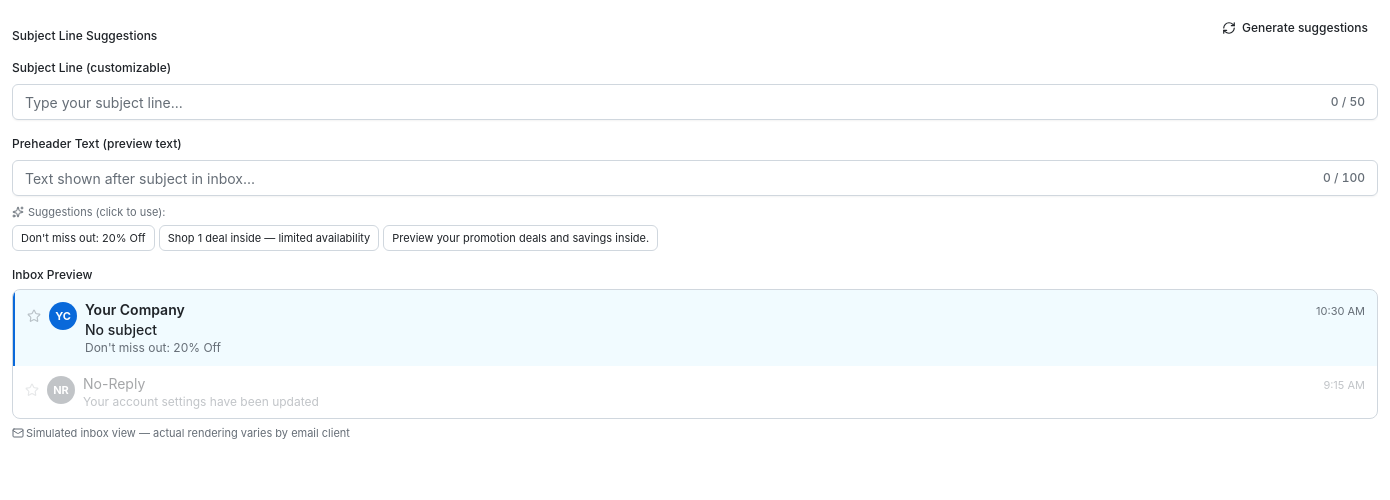
Test: SubjectLineGenerator › sets manually edited flag when editing subject input
Click the button "Generate suggestions" at (1295, 28), box [1212,12,1378,44]
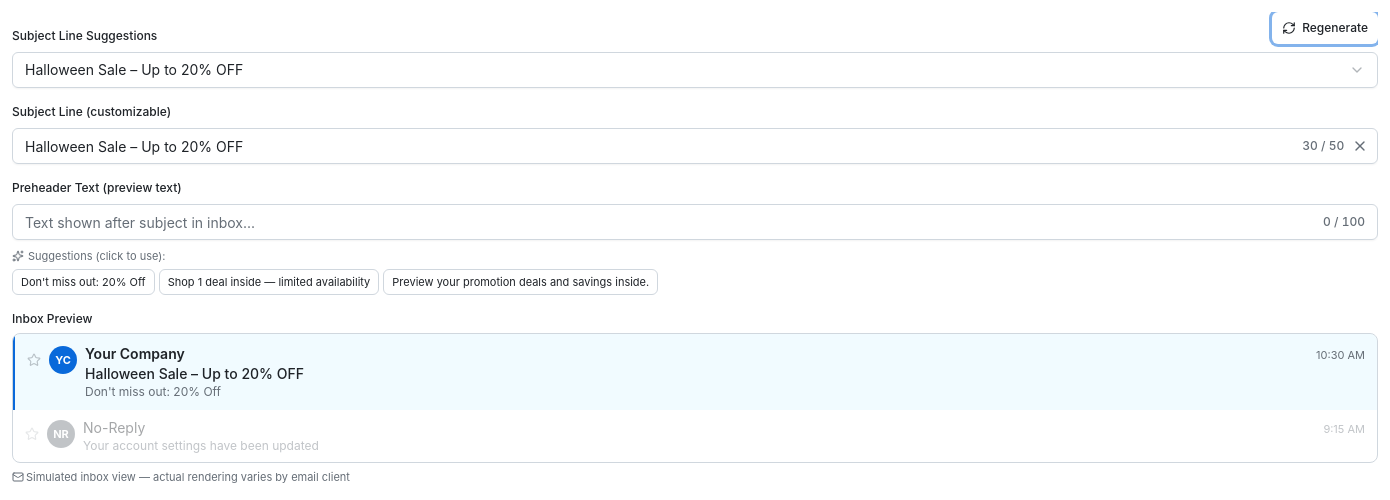
Clear the field labelled "Subject Line (customizable)" at (658, 146), box [13,129,1302,163]
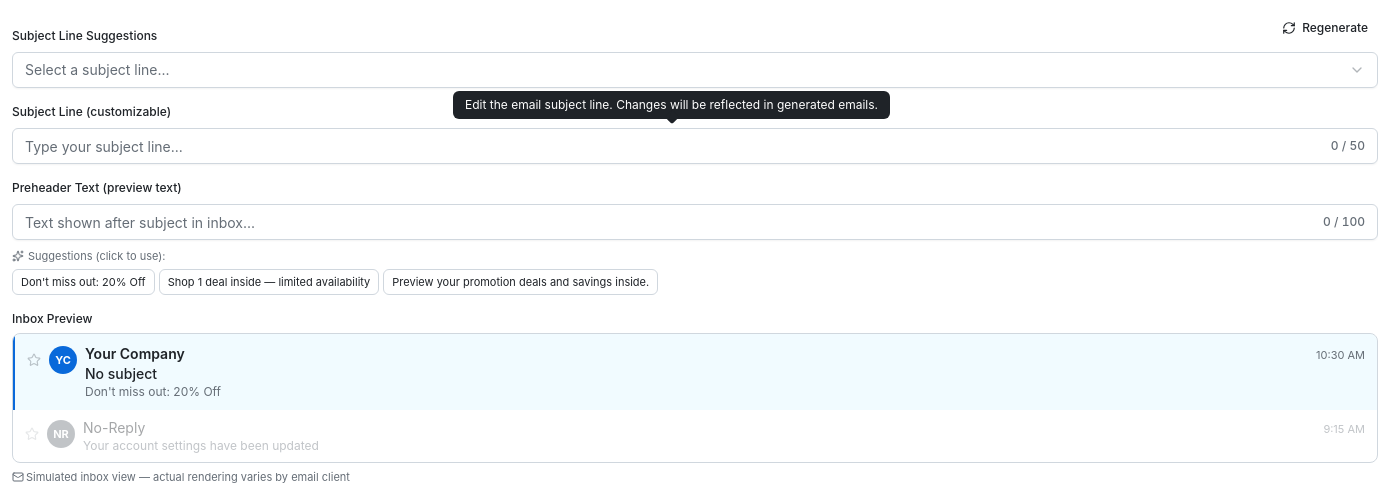
Type "Custom Subject" into the field labelled "Subject Line (customizable)" at (672, 146), box [13,129,1331,163]
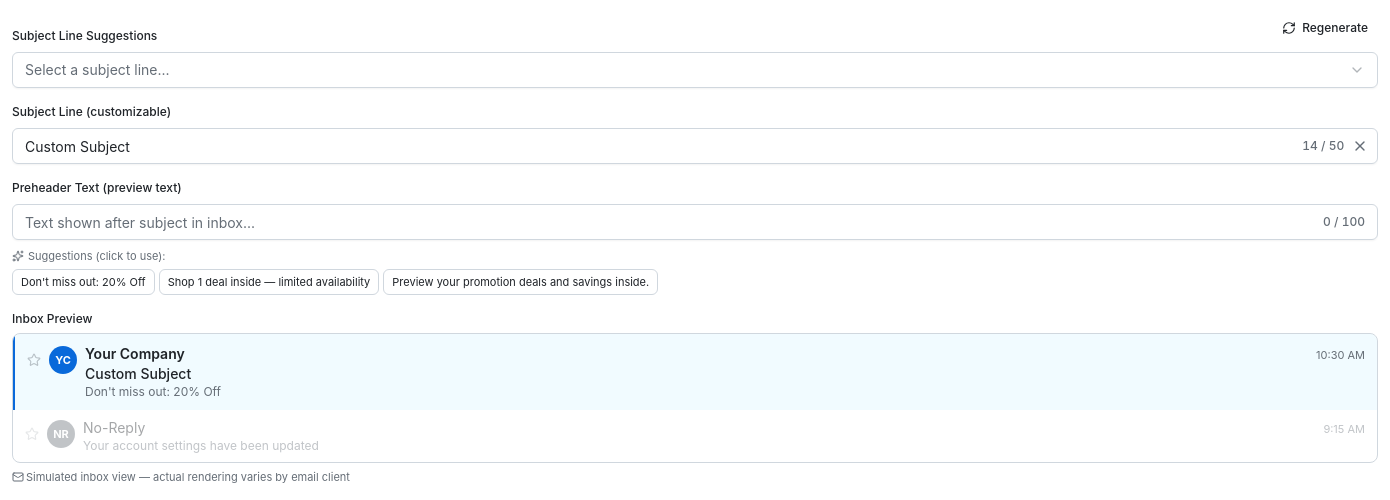
Expected: the text "Custom Subject" is shown, [85,365,191,382]
